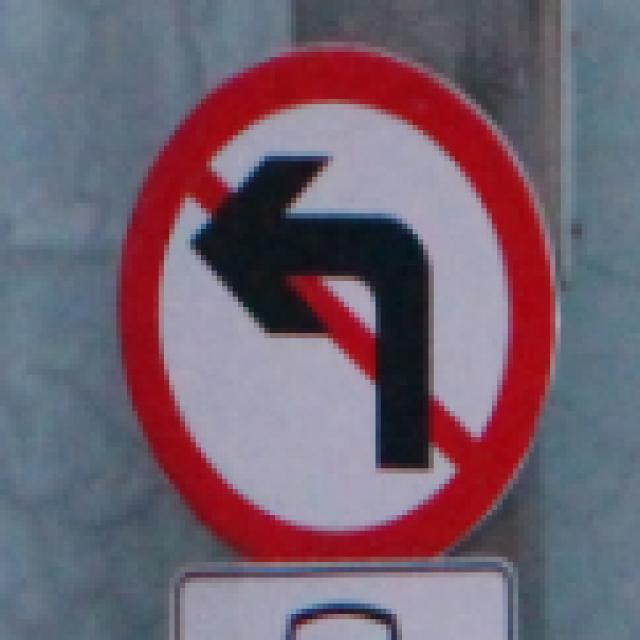Not that Direction: (127, 55, 544, 549)
